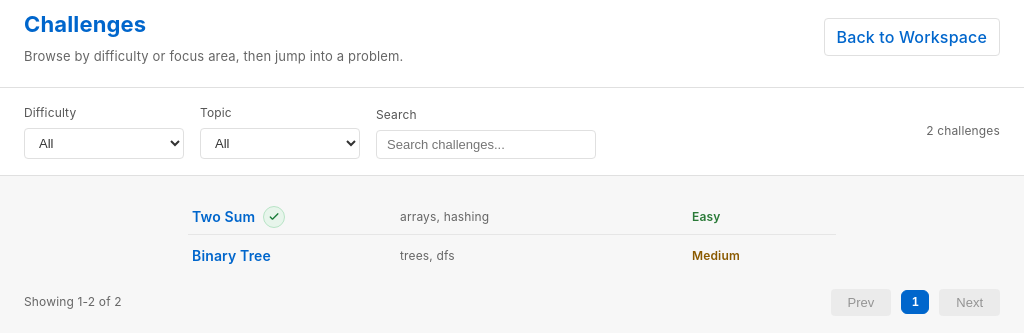
ChallengeListPage › filters by difficulty and topic
Check: the link "Two Sum" is shown, box [192,206,255,227]
Select "Easy" in the dropdown labelled "Difficulty". click: (104, 143)
box: [24,128,184,158]
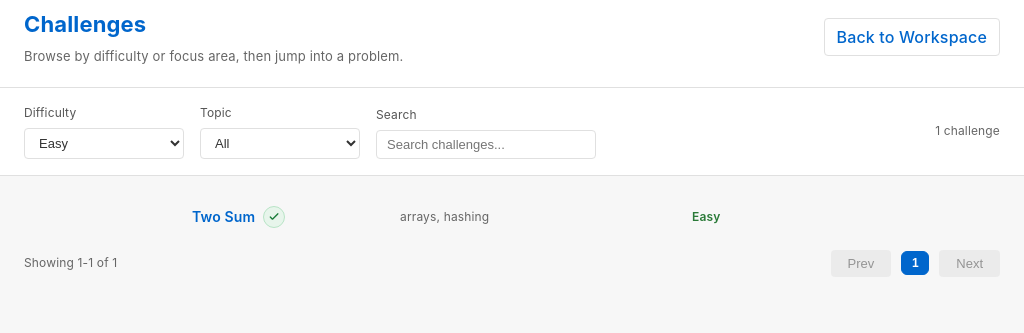
Check: the link "Two Sum" is shown, box [192,206,255,227]
Check: the link "Binary Tree" is gone
Select "All" in the dropdown labelled "Difficulty". click: (104, 143)
box: [24,128,184,158]
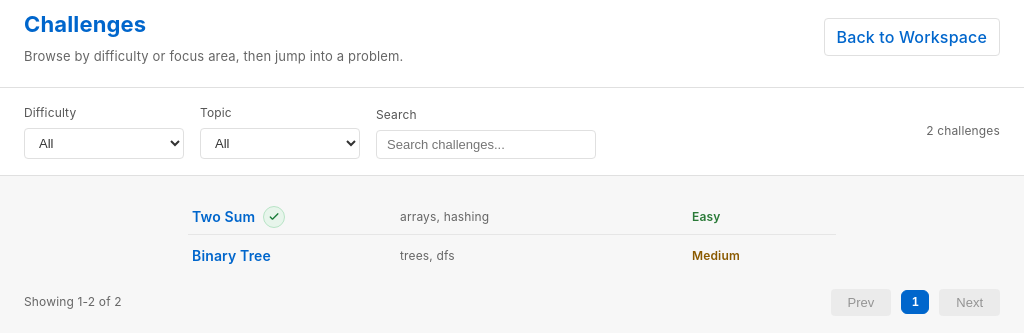
Select "trees" in the dropdown labelled "Topic". click: (280, 143)
box: [200,128,360,158]
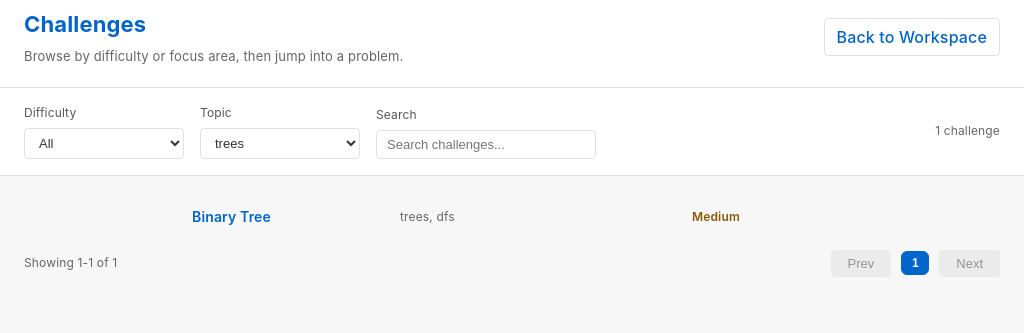
Check: the link "Binary Tree" is shown, box [192,206,271,227]
Check: the link "Two Sum" is gone
